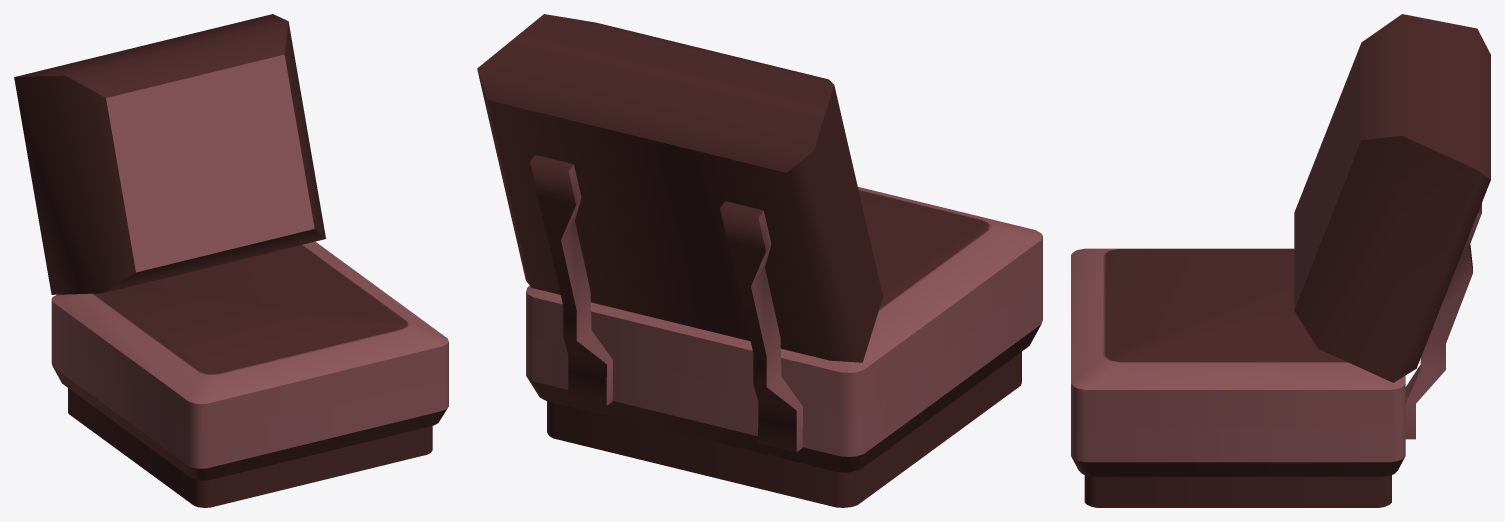
File: Sofa.FBX
The picture shows the model from 3 angles, left to right: view 1: azimuth 30°, elevation 25°; view 2: azimuth 150°, elevation 25°; view 3: azimuth 270°, elevation 25°; orthographic projection. The views are drawn at different scales.
Visible parts, largest first — view 1: Box003; view 2: Box003; view 3: Box003.
Part boxes in pixels (<box>): Box003: <box>14,14,448,507</box>; Box003: <box>477,14,1042,507</box>; Box003: <box>1071,14,1490,507</box>.
Size of the model in its own units: 53.22 by 64.61 by 66.8.
